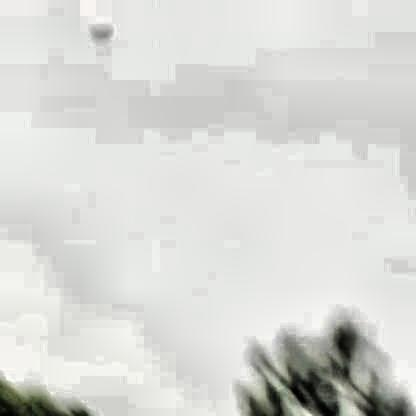golfball: (87, 25, 111, 41)
